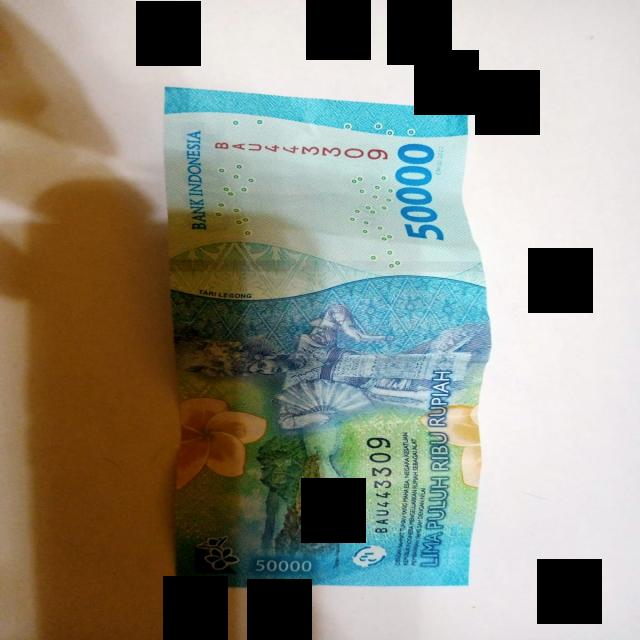lima puluh ribu rupiah: (165, 88, 490, 587)
